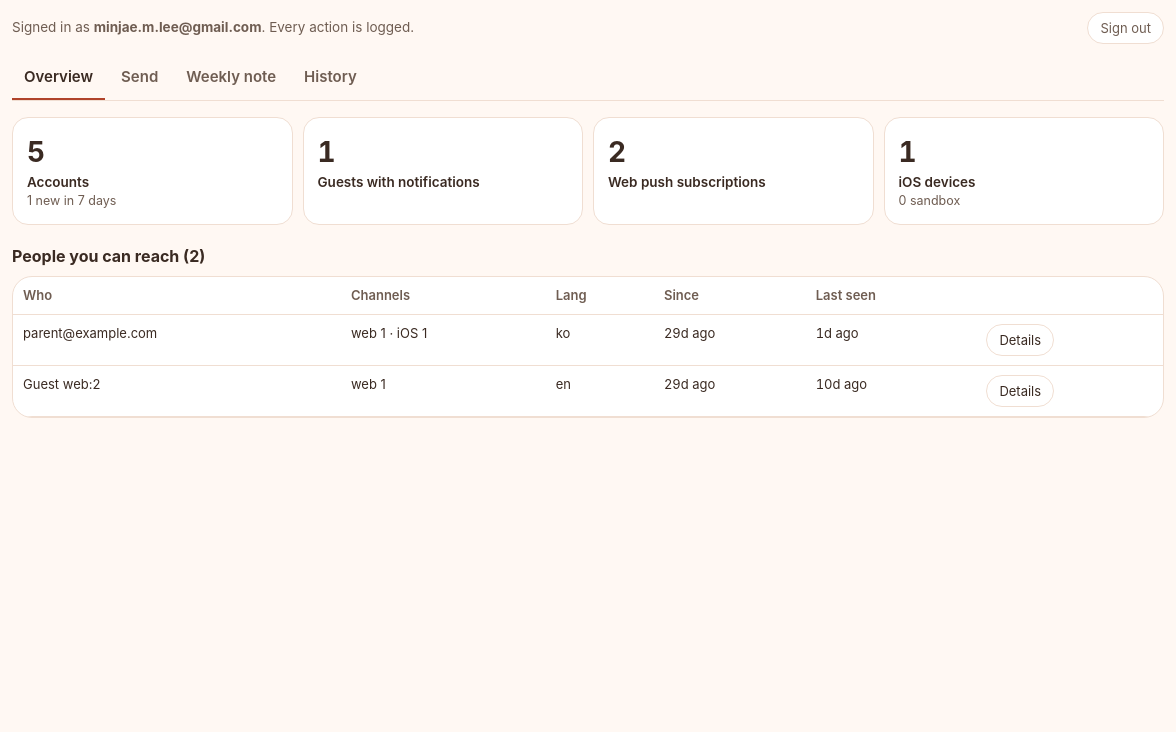
Scenario: AdminScreen › weekly note: preview then send now
Click the tab with test id "tab-weekly": (231, 78) [174,56,288,100]
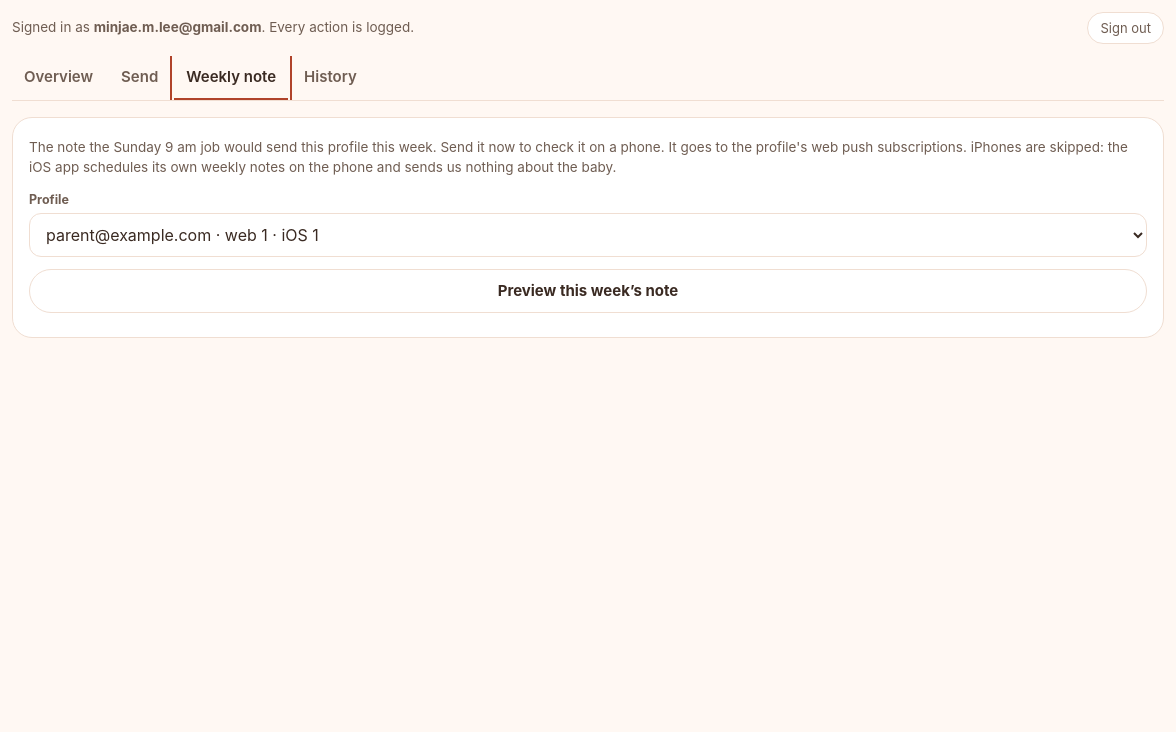
Click the button with test id "weekly-preview": (588, 291) [29,269,1147,313]
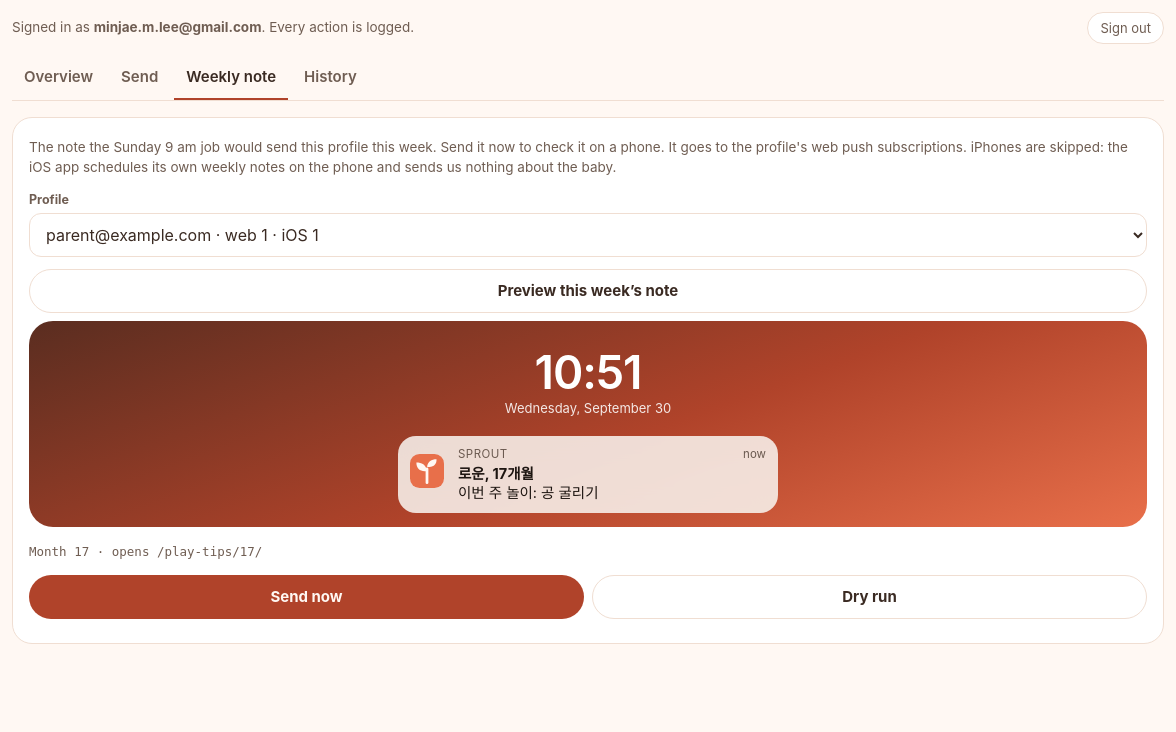
Check: the element with test id "weekly-lock" shows "로운, 17개월", box [458,465,534,482]
Click the button with test id "weekly-send": (306, 597) [29,575,584,619]
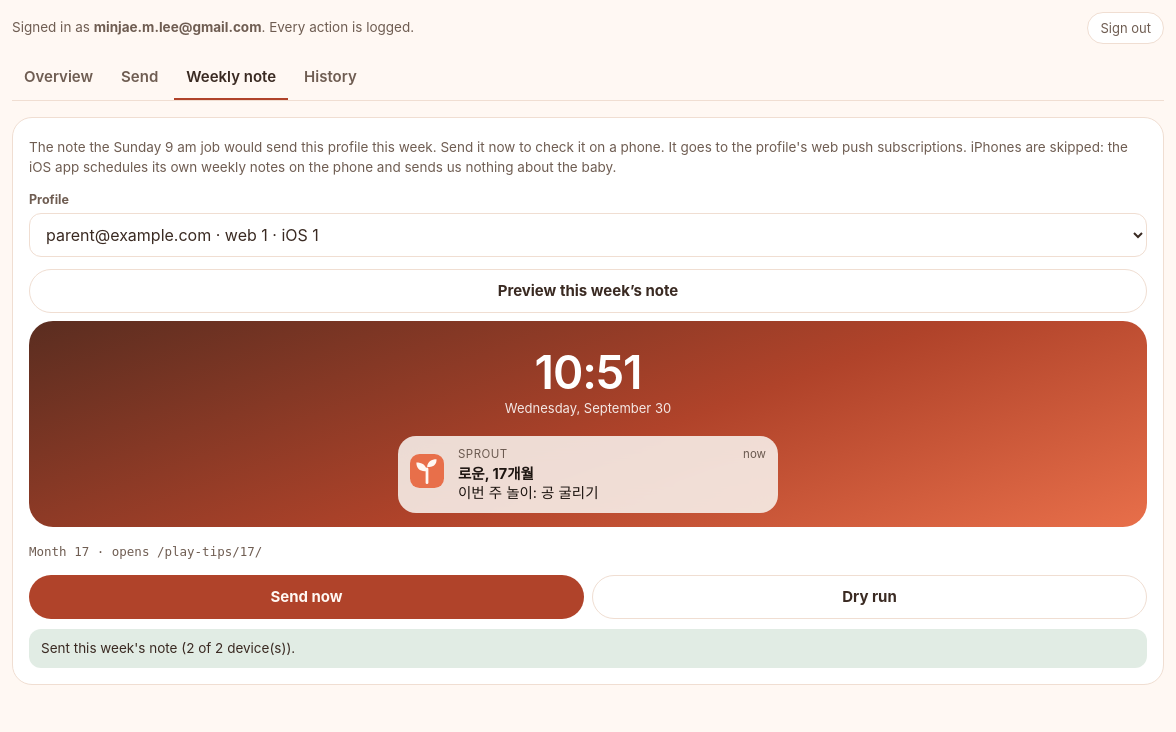
Check: the message with test id "admin-result" shows "2 of 2", box [41,640,295,656]
